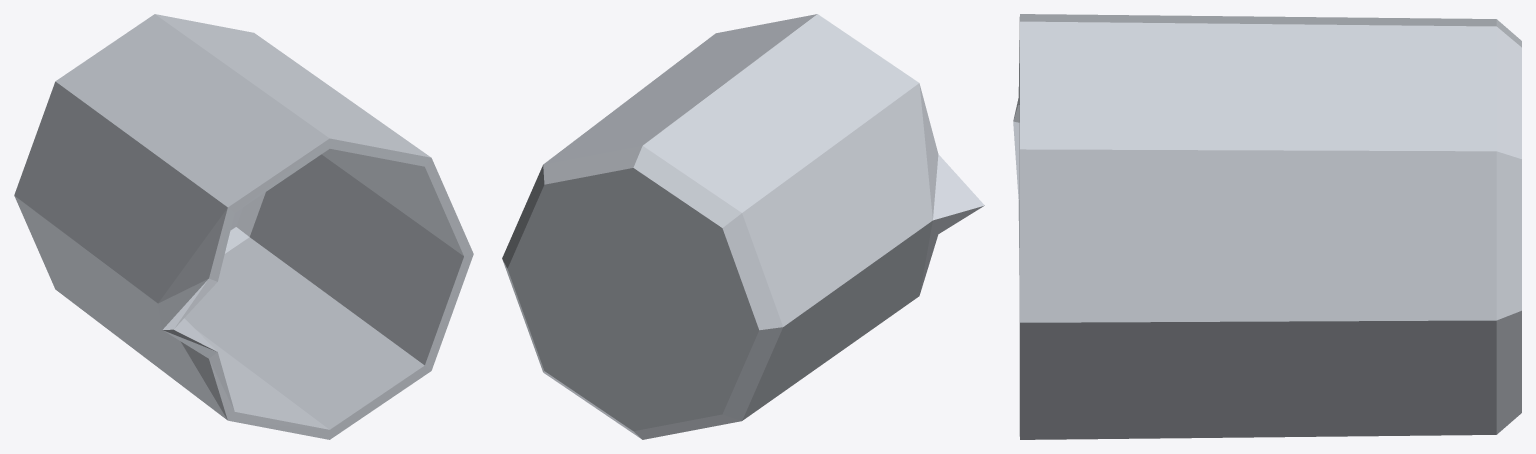
File: bottle_glassware_beaker_medium.obj
3 renders of one model, left to right at view 1: azimuth 30°, elevation 25°; view 2: azimuth 150°, elevation 25°; view 3: azimuth 270°, elevation 25°, orthographic. The views are drawn at different scales.
Visible parts, largest first — view 1: Cylinder.529; view 2: Cylinder.529; view 3: Cylinder.529.
Part boxes in pixels (x1,y1,x2,y2): Cylinder.529: [14, 14, 473, 439]; Cylinder.529: [502, 14, 984, 439]; Cylinder.529: [1013, 14, 1521, 439].
Size of the model in its own units: 0.1279 by 0.1183 by 0.1328.
1 material, 1 textured.
